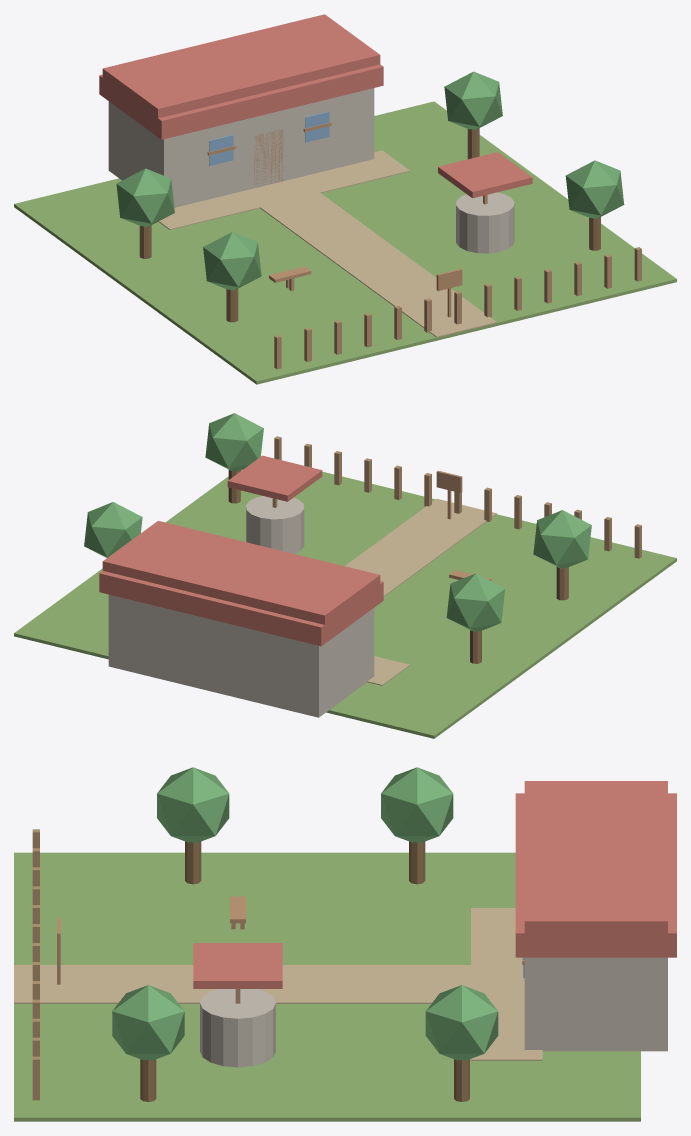
Rendered from patio_pueblo.glb.
3 views of the same model, one above another, from view 1: azimuth 30°, elevation 25°; view 2: azimuth 150°, elevation 25°; view 3: azimuth 270°, elevation 25° (orthographic). The views are drawn at different scales.
Parts seen in each view (by area): view 1: Grass, House_Body, House_Crest, Path_Main, House_Roof, Path_Cross, Well_Wall, Well_Roof, Tree_Leaves_-5.5_2.0, Tree_Leaves_-5.5_-3.0, Tree_Leaves_6.0_-4.0, Tree_Leaves_6.0_3.0 (+3 smaller); view 2: Grass, House_Body, House_Crest, House_Roof, Path_Main, Well_Wall, Well_Roof, Tree_Leaves_-5.5_-3.0, Tree_Leaves_-5.5_2.0, Tree_Leaves_6.0_-4.0, Tree_Leaves_6.0_3.0, Path_Cross; view 3: Grass, House_Crest, Path_Main, House_Body, House_Roof, Well_Wall, Path_Cross, Tree_Leaves_6.0_3.0, Tree_Leaves_6.0_-4.0, Tree_Leaves_-5.5_2.0, Tree_Leaves_-5.5_-3.0, Well_Roof (+4 smaller).
Boxes of the visible parts, <box> form: Grass: <box>14,101,676,384</box>; House_Body: <box>108,88,374,207</box>; House_Crest: <box>102,14,380,127</box>; Path_Main: <box>239,177,496,337</box>; House_Roof: <box>99,64,383,139</box>; Path_Cross: <box>158,150,409,229</box>; Well_Wall: <box>456,192,514,253</box>; Well_Roof: <box>438,152,532,198</box>; Tree_Leaves_-5.5_2.0: <box>116,168,174,226</box>; Tree_Leaves_-5.5_-3.0: <box>203,232,261,290</box>; Tree_Leaves_6.0_-4.0: <box>565,160,624,218</box>; Tree_Leaves_6.0_3.0: <box>444,71,502,130</box>; Grass: <box>14,469,676,738</box>; House_Body: <box>108,594,374,717</box>; House_Crest: <box>102,521,380,633</box>; House_Roof: <box>99,571,383,646</box>; Path_Main: <box>345,498,496,596</box>; Well_Wall: <box>246,496,304,553</box>; Well_Roof: <box>227,455,322,501</box>; Tree_Leaves_-5.5_-3.0: <box>533,510,591,568</box>; Tree_Leaves_-5.5_2.0: <box>446,573,504,631</box>; Tree_Leaves_6.0_-4.0: <box>205,413,263,471</box>; Tree_Leaves_6.0_3.0: <box>84,502,142,557</box>; Path_Cross: <box>367,656,409,685</box>; Grass: <box>14,852,640,1121</box>; House_Crest: <box>524,781,667,945</box>; Path_Main: <box>14,965,524,1003</box>; House_Body: <box>524,957,667,1051</box>; House_Roof: <box>515,793,676,957</box>; Well_Wall: <box>200,989,275,1067</box>; Path_Cross: <box>471,908,542,1060</box>; Tree_Leaves_6.0_3.0: <box>425,985,498,1060</box>; Tree_Leaves_6.0_-4.0: <box>112,985,184,1060</box>; Tree_Leaves_-5.5_2.0: <box>381,767,453,842</box>; Tree_Leaves_-5.5_-3.0: <box>157,767,229,842</box>; Well_Roof: <box>193,943,282,988</box>.
Size of the model in its own units: 14 by 3.4 by 14.8.
